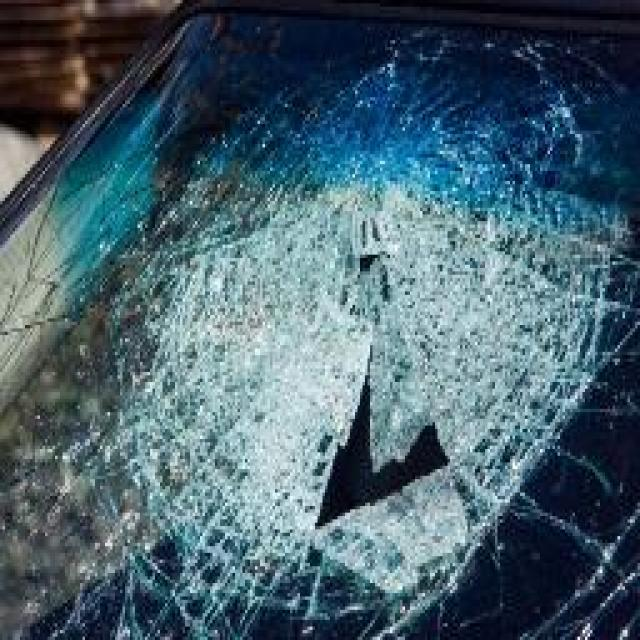Windshield: (0, 9, 640, 640)
